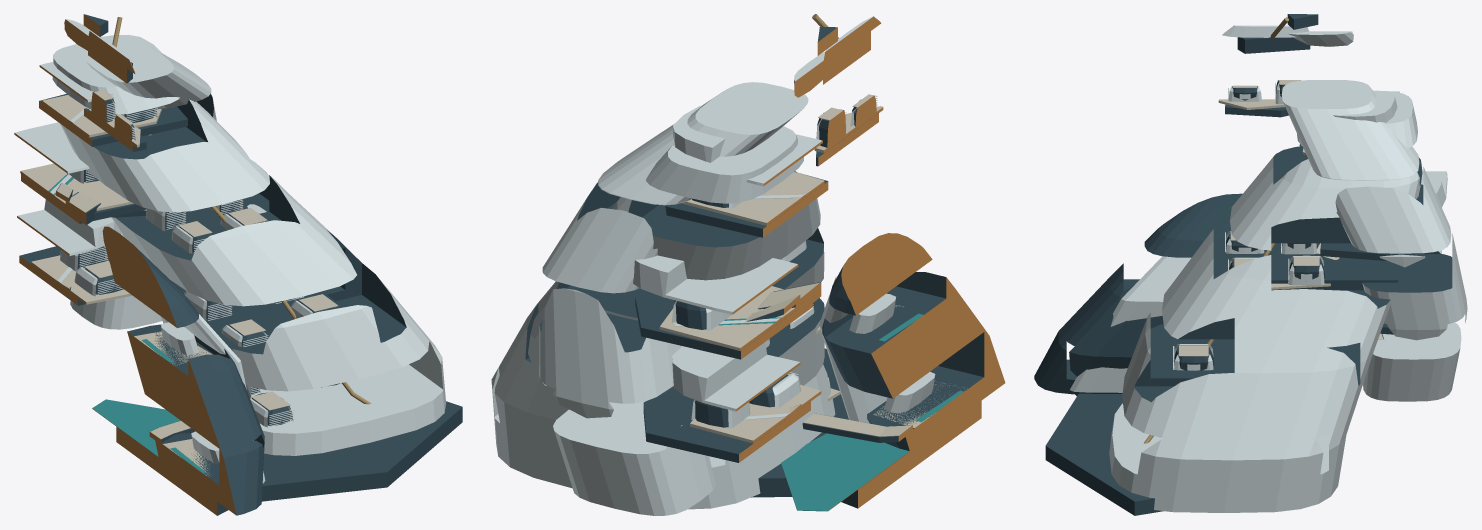
Rendered from SECTION_YZ_X0.glb.
The picture shows the model from 3 angles, left to right: view 1: azimuth 30°, elevation 25°; view 2: azimuth 150°, elevation 25°; view 3: azimuth 270°, elevation 25°; orthographic projection. The views are drawn at different scales.
Parts seen in each view (by area): view 1: R2_EAST_INLAND_CIVILIZATION, R2_INNER_METROPOLITAN_PENINSULA, C_LOWEST_URBAN_DELTA, R1_REAR_EAST_RIDGE, R1_REAR_CIVIC_OVERWORLD, C_SHARED_INNER_SEA, C_R1_DEEP_METROPOLIS_public_ground, R1_REAR_CIVIC_OVERWORLD.001, R1_REAR_HIGH_thick_inhabited_ground, C_R0_INNER_ORCHARD_public_ground, C_R2_SHARED_SKY_public_ground, R2_PENINSULA_INHABITED_CHEEK.001 (+12 smaller); view 2: R1_REAR_EAST_RIDGE, R2_EAST_INLAND_CIVILIZATION, R2_INNER_METROPOLITAN_PENINSULA, C_SHARED_INNER_SEA, R1_REAR_CIVIC_OVERWORLD, R1_REAR_CIVIC_OVERWORLD.001, R1_REAR_LOWER_thick_inhabited_ground, C_LOWEST_URBAN_DELTA, R1_REAR_MID_thick_inhabited_ground, C_R2_SHARED_SKY_public_ground, R1_REAR_CIVIC_OVERWORLD.002, C_R1_DEEP_METROPOLIS_public_ground (+17 smaller); view 3: R2_EAST_INLAND_CIVILIZATION, R1_REAR_EAST_RIDGE, R2_INNER_METROPOLITAN_PENINSULA, C_LOWEST_URBAN_DELTA, R2_PENINSULA_INHABITED_CHEEK.001, R2_ZENITH_METROPOLITAN_GROUND, R2_ZENITH_EAST_LIVED_CITY, R1_REAR_WEST_RIDGE, R1_REAR_MID_thick_inhabited_ground, R1_REAR_CIVIC_OVERWORLD.002, R1_ZENITH_thick_inhabited_ground, R1_REAR_CIVIC_OVERWORLD.001.
Part boxes in pixels (x1=…): R2_EAST_INLAND_CIVILIZATION: x1=52, y1=44, x2=446, y2=455; R2_INNER_METROPOLITAN_PENINSULA: x1=102, y1=226, x2=264, y2=515; C_LOWEST_URBAN_DELTA: x1=116, y1=401, x2=462, y2=515; R1_REAR_EAST_RIDGE: x1=70, y1=39, x2=216, y2=329; R1_REAR_CIVIC_OVERWORLD: x1=17, y1=199, x2=120, y2=255; C_SHARED_INNER_SEA: x1=92, y1=399, x2=200, y2=487; C_R1_DEEP_METROPOLIS_public_ground: x1=20, y1=163, x2=133, y2=214; R1_REAR_CIVIC_OVERWORLD.001: x1=14, y1=122, x2=89, y2=173; R1_REAR_HIGH_thick_inhabited_ground: x1=39, y1=94, x2=187, y2=146; C_R0_INNER_ORCHARD_public_ground: x1=31, y1=255, x2=132, y2=304; C_R2_SHARED_SKY_public_ground: x1=42, y1=95, x2=161, y2=137; R2_PENINSULA_INHABITED_CHEEK.001: x1=184, y1=314, x2=265, y2=483; R1_REAR_EAST_RIDGE: x1=539, y1=82, x2=808, y2=515; R2_EAST_INLAND_CIVILIZATION: x1=491, y1=126, x2=835, y2=509; R2_INNER_METROPOLITAN_PENINSULA: x1=822, y1=233, x2=1005, y2=452; C_SHARED_INNER_SEA: x1=781, y1=413, x2=961, y2=511; R1_REAR_CIVIC_OVERWORLD: x1=672, y1=342, x2=800, y2=411; R1_REAR_CIVIC_OVERWORLD.001: x1=633, y1=255, x2=798, y2=314; R1_REAR_LOWER_thick_inhabited_ground: x1=643, y1=388, x2=810, y2=462; C_LOWEST_URBAN_DELTA: x1=751, y1=348, x2=981, y2=508; R1_REAR_MID_thick_inhabited_ground: x1=635, y1=291, x2=812, y2=359; C_R2_SHARED_SKY_public_ground: x1=681, y1=172, x2=824, y2=225; R1_REAR_CIVIC_OVERWORLD.002: x1=672, y1=105, x2=822, y2=186; C_R1_DEEP_METROPOLIS_public_ground: x1=659, y1=286, x2=809, y2=350; R2_EAST_INLAND_CIVILIZATION: x1=1109, y1=90, x2=1422, y2=512; R1_REAR_EAST_RIDGE: x1=1281, y1=80, x2=1467, y2=401; R2_INNER_METROPOLITAN_PENINSULA: x1=1034, y1=193, x2=1242, y2=394; C_LOWEST_URBAN_DELTA: x1=1045, y1=393, x2=1163, y2=515; R2_PENINSULA_INHABITED_CHEEK.001: x1=1070, y1=256, x2=1191, y2=392; R2_ZENITH_METROPOLITAN_GROUND: x1=1237, y1=37, x2=1310, y2=53; R2_ZENITH_EAST_LIVED_CITY: x1=1222, y1=25, x2=1308, y2=37; R1_REAR_WEST_RIDGE: x1=1287, y1=31, x2=1353, y2=46; R1_REAR_MID_thick_inhabited_ground: x1=1320, y1=243, x2=1417, y2=260; R1_REAR_CIVIC_OVERWORLD.002: x1=1333, y1=91, x2=1399, y2=122; R1_ZENITH_thick_inhabited_ground: x1=1225, y1=104, x2=1288, y2=117; R1_REAR_CIVIC_OVERWORLD.001: x1=1421, y1=171, x2=1447, y2=207.
Bounding box in the file's own units: 2860 × 3993 × 4126.
